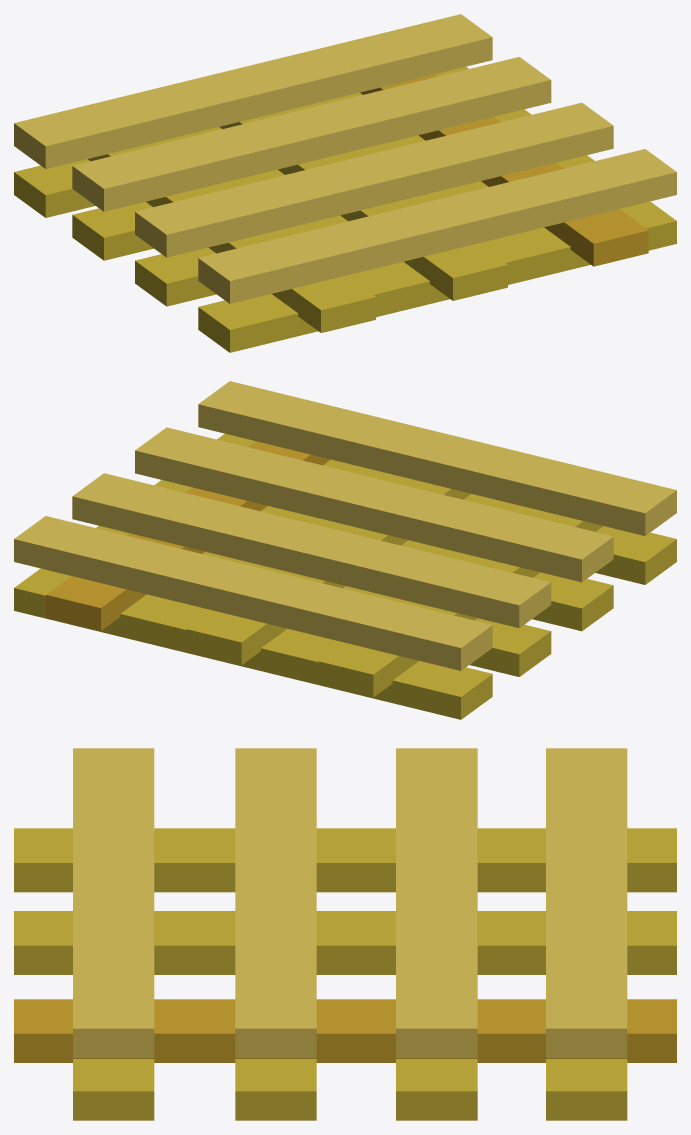
File: small wooden platform.fbx
3 renders of one model, top to bottom at view 1: azimuth 30°, elevation 25°; view 2: azimuth 150°, elevation 25°; view 3: azimuth 270°, elevation 25°, orthographic. The views are drawn at different scales.
Parts seen in each view (by area): view 1: Cube.031; view 2: Cube.031; view 3: Cube.031.
Part boxes in pixels (<box>): Cube.031: <box>14,14,676,352</box>; Cube.031: <box>14,381,676,719</box>; Cube.031: <box>14,748,676,1120</box>.
Size of the model in its own units: 519 by 79.65 by 519.
